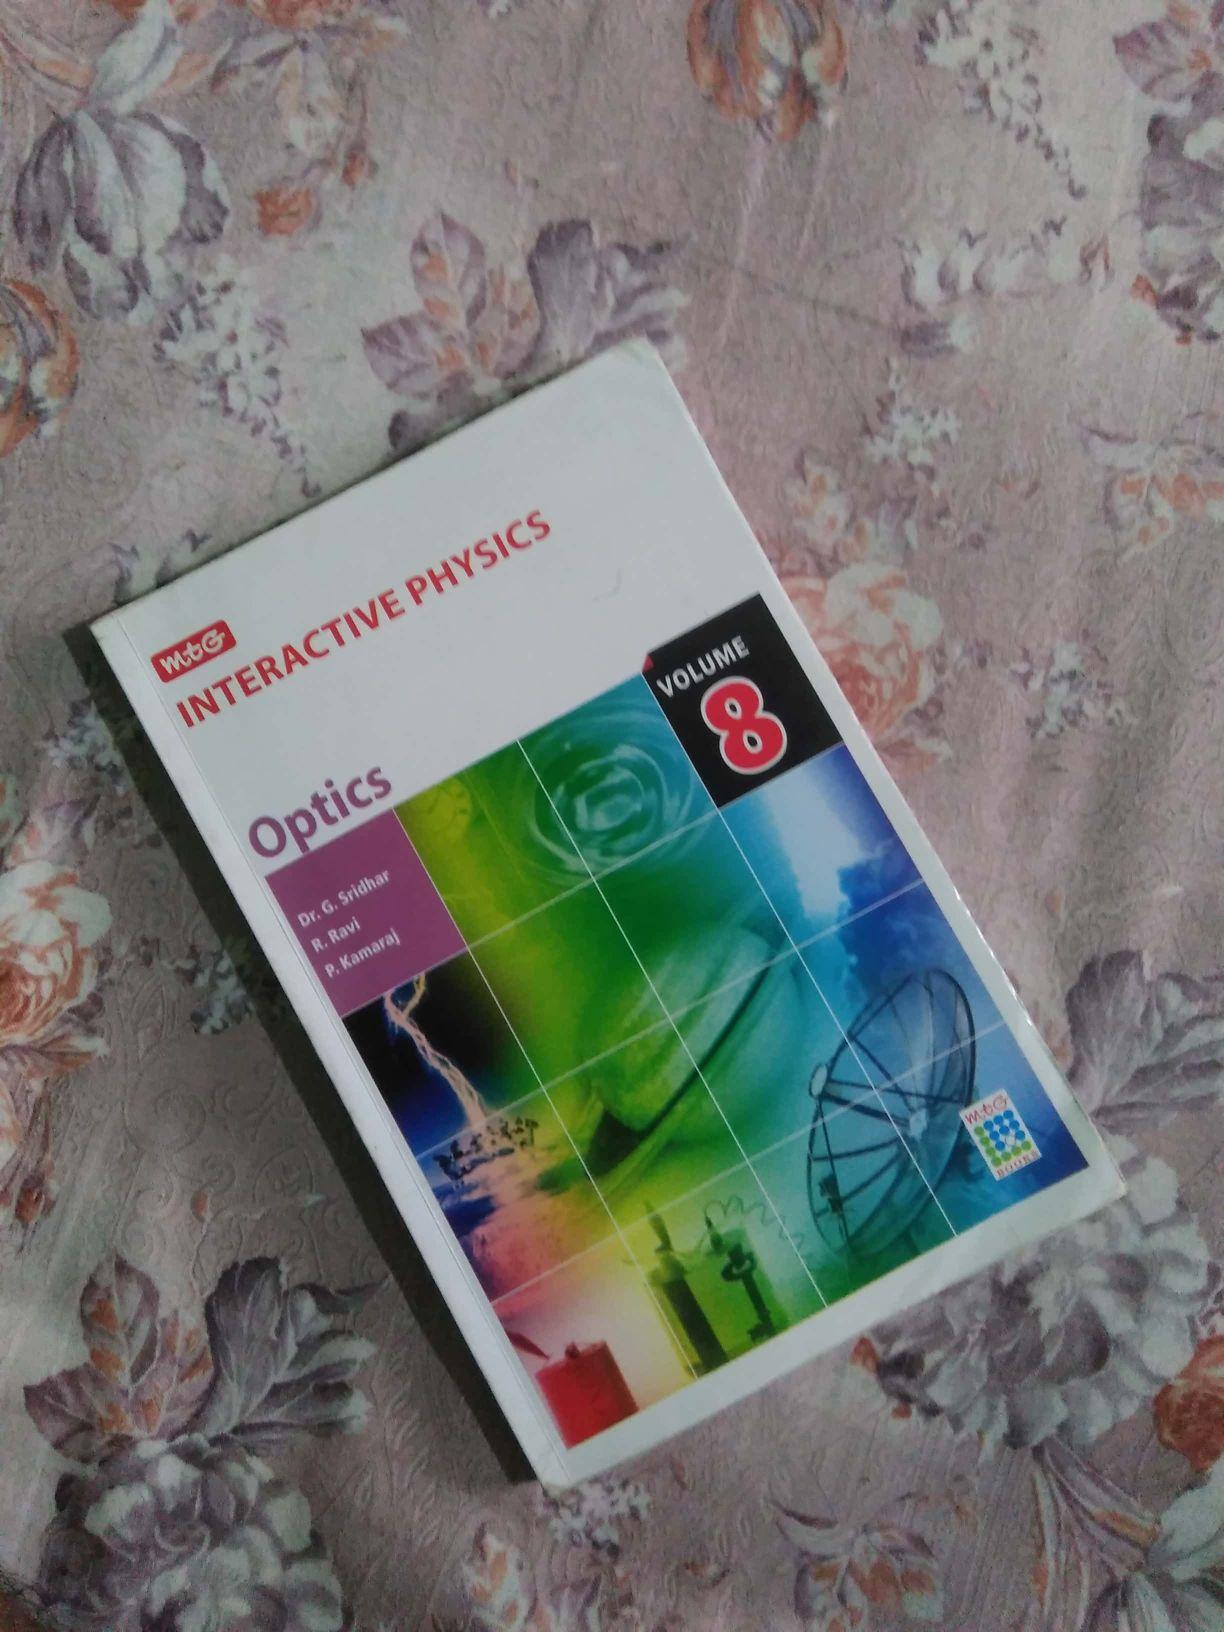optics: (122, 375, 1107, 1435)
